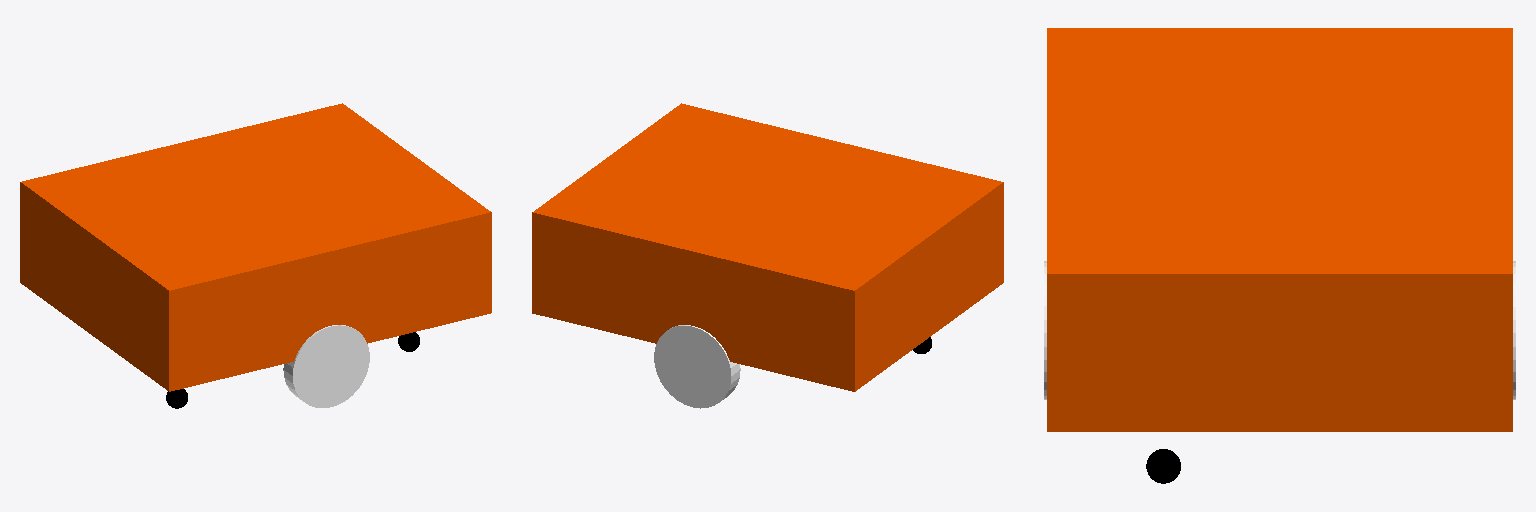
URDF robot description (hgrobot):
<?xml version="1.0" ?>
<robot name="hgrobot">

    <link name="base_link">
        <visual>
            <origin xyz="0 0 0.045" rpy="0 0 0"/>
            <geometry>
                <!-- <cylinder length="0.16" radius="0.20"/> -->
                <box size="0.5 0.4 0.15"/>
            </geometry>
            <material name="yellow">
                <color rgba="1 0.4 0 0.5"/>
            </material>
        </visual>
    </link>

    <joint name="left_wheel_joint" type="continuous">
        <origin xyz="0 0.19 -0.05" rpy="0 0 0"/>
        <parent link="base_link"/>
        <child link="left_wheel_link"/>
        <axis xyz="0 1 0"/>
    </joint>

    <link name="left_wheel_link">
        <visual>
            <origin xyz="0 0 0" rpy="1.5707 0 0" />
            <geometry>
                <cylinder radius="0.06" length = "0.025"/>
            </geometry>
            <material name="white">
                <color rgba="1 1 1 0.9"/>
            </material>
        </visual>
    </link>

    <joint name="right_wheel_joint" type="continuous">
        <origin xyz="0 -0.19 -0.05" rpy="0 0 0"/>
        <parent link="base_link"/>
        <child link="right_wheel_link"/>
        <axis xyz="0 1 0"/>
    </joint>

    <link name="right_wheel_link">
        <visual>
            <origin xyz="0 0 0" rpy="1.5707 0 0" />
            <geometry>
                <cylinder radius="0.06" length = "0.025"/>
            </geometry>
            <material name="white">
                <color rgba="1 1 1 0.9"/>
            </material>
        </visual>
    </link>

    <joint name="back_caster_joint" type="continuous">
        <origin xyz="-0.18 -0.10 -0.095" rpy="0 0 0"/>
        <parent link="base_link"/>
        <child link="back_caster_link"/>
        <axis xyz="0 1 0"/>
    </joint>

    <link name="back_caster_link">
        <visual>
            <origin xyz="0 0 0" rpy="0 0 0"/>
            <geometry>
                <sphere radius="0.015" />
            </geometry>
            <material name="black">
                <color rgba="0 0 0 0.95"/>
            </material>
        </visual>
    </link>
    
    <joint name="front_caster_joint" type="continuous">
        <origin xyz="0.18 -0.10 -0.095" rpy="0 0 0"/>
        <parent link="base_link"/>
        <child link="front_caster_link"/>
        <axis xyz="0 1 0"/>
    </joint>

    <link name="front_caster_link">
        <visual>
            <origin xyz="0 0 0" rpy="0 0 0"/>
            <geometry>
                <sphere radius="0.015" />
            </geometry>
            <material name="black">
                <color rgba="0 0 0 0.95"/>
            </material>
        </visual>
    </link>



</robot>

--- Facts derived from the render (not from the file) ---
Views: 3 orthographic renders of the robot side by side, from view 1: azimuth 30°, elevation 25°; view 2: azimuth 150°, elevation 25°; view 3: azimuth 270°, elevation 25°.
Robot: hgrobot — 5 links, 4 joints (4 continuous); root link base_link; default pose: every joint at zero.
Visible links, largest first — view 1: base_link, right_wheel_link; view 2: base_link, left_wheel_link; view 3: base_link, front_caster_link.
Link boxes in pixels (x1=…): base_link: x1=20, y1=103, x2=491, y2=391; right_wheel_link: x1=283, y1=325, x2=369, y2=407; base_link: x1=532, y1=103, x2=1003, y2=391; left_wheel_link: x1=654, y1=325, x2=740, y2=408; base_link: x1=1047, y1=28, x2=1512, y2=431; front_caster_link: x1=1146, y1=449, x2=1180, y2=483.
Bounding box of the posed robot: 0.5 × 0.405 × 0.23 m (x, y, z).
Geometry: primitives only (box / cylinder / sphere), no mesh files.